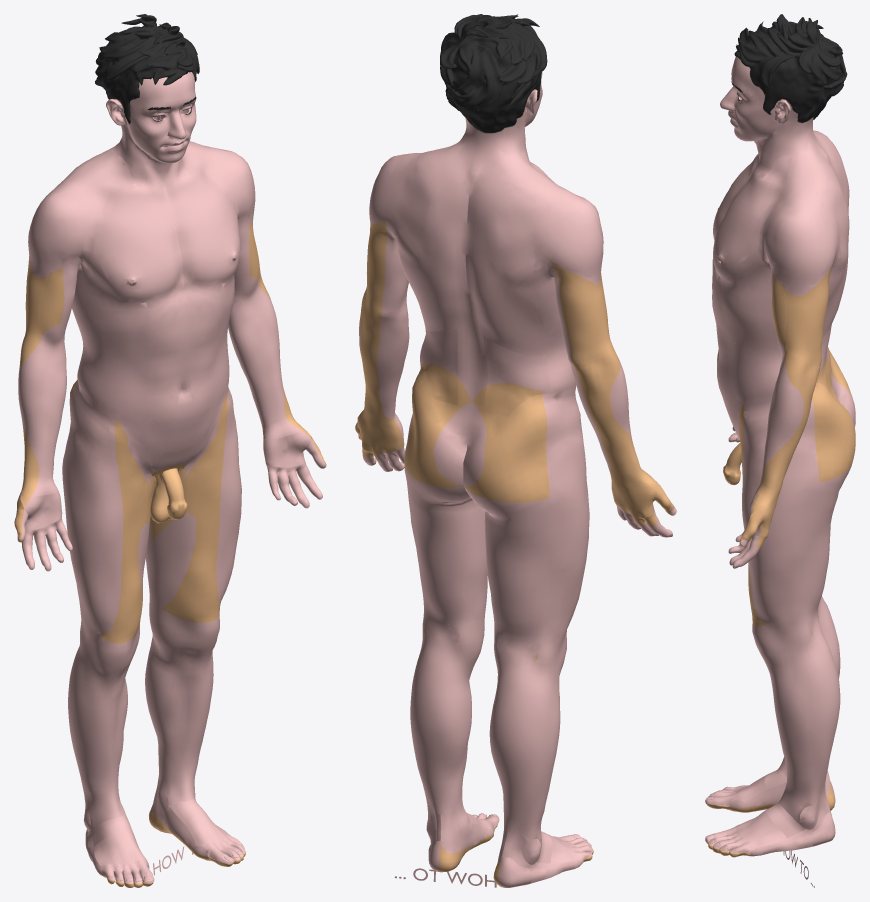
Rendered from visceral.glb.
The picture shows the model from 3 angles, left to right: view 1: azimuth 30°, elevation 25°; view 2: azimuth 150°, elevation 25°; view 3: azimuth 270°, elevation 25°; orthographic projection. The views are drawn at different scales.
Parts seen in each view (by area): view 1: Anterior region of thigh.r, Anterior region of thigh.l, Hairs of head, Anterior region of leg.l, Anterior region of leg.r, Pectoral region.r, Deltoid region.r, Anterior region of forearm.l, Anterior region of forearm.r, Lateral region of thorax.r, Lateral region of abdomen.r, Pectoral region.l (+45 smaller); view 2: Posterior region of thigh.r, Hairs of head, Gluteal region.r, Posterior region of thigh.l, Posterior region of leg.r, Posterior region of leg.l, Gluteal region.l, Scapular region.r, Posterior region of arm.r, Infrascapular region.r, Scapular region.l, Posterior region of forearm.r (+32 smaller); view 3: Hairs of head, Anterior region of thigh.l, Posterior region of thigh.l, Deltoid region.l, Gluteal region.l, Posterior region of leg.l, Lateral region of thorax.l, Anterior region of leg.l, Lateral region of abdomen.l, Pectoral region.l, Posterior region of arm.l, Posterior region of neck.l (+43 smaller).
Boxes of the visible parts, x1=… form: Anterior region of thigh.r: x1=69, y1=383, x2=155, y2=637; Anterior region of thigh.l: x1=150, y1=383, x2=241, y2=616; Hairs of head: x1=95, y1=14, x2=199, y2=123; Anterior region of leg.l: x1=153, y1=656, x2=213, y2=781; Anterior region of leg.r: x1=74, y1=674, x2=127, y2=800; Pectoral region.r: x1=95, y1=205, x2=175, y2=303; Deltoid region.r: x1=28, y1=174, x2=90, y2=272; Anterior region of forearm.l: x1=228, y1=305, x2=292, y2=426; Anterior region of forearm.r: x1=22, y1=360, x2=66, y2=482; Lateral region of thorax.r: x1=72, y1=225, x2=148, y2=334; Lateral region of abdomen.r: x1=77, y1=343, x2=147, y2=423; Pectoral region.l: x1=184, y1=180, x2=239, y2=285; Posterior region of thigh.r: x1=484, y1=497, x2=580, y2=642; Hairs of head: x1=440, y1=14, x2=547, y2=133; Gluteal region.r: x1=463, y1=393, x2=569, y2=520; Posterior region of thigh.l: x1=405, y1=472, x2=487, y2=625; Posterior region of leg.r: x1=489, y1=690, x2=556, y2=832; Posterior region of leg.l: x1=410, y1=669, x2=469, y2=815; Gluteal region.l: x1=404, y1=361, x2=471, y2=503; Scapular region.r: x1=487, y1=192, x2=560, y2=288; Posterior region of arm.r: x1=545, y1=243, x2=608, y2=349; Infrascapular region.r: x1=476, y1=274, x2=547, y2=355; Scapular region.l: x1=381, y1=164, x2=437, y2=266; Posterior region of forearm.r: x1=572, y1=369, x2=642, y2=477; Hairs of head: x1=734, y1=14, x2=847, y2=122; Anterior region of thigh.l: x1=739, y1=394, x2=786, y2=625; Posterior region of thigh.l: x1=782, y1=490, x2=838, y2=625; Deltoid region.l: x1=763, y1=191, x2=831, y2=287; Gluteal region.l: x1=797, y1=383, x2=855, y2=493; Posterior region of leg.l: x1=797, y1=657, x2=840, y2=796; Lateral region of thorax.l: x1=717, y1=223, x2=843, y2=333; Anterior region of leg.l: x1=770, y1=674, x2=804, y2=795; Lateral region of abdomen.l: x1=725, y1=336, x2=782, y2=401; Pectoral region.l: x1=713, y1=191, x2=769, y2=282; Posterior region of arm.l: x1=798, y1=240, x2=836, y2=353; Posterior region of neck.l: x1=784, y1=117, x2=832, y2=193.
Size of the model in its own units: 0.6801 by 1.79 by 0.294.
